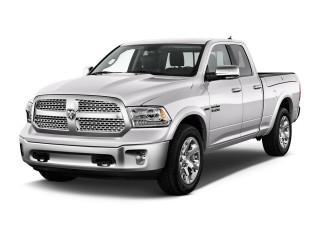ram: (65, 106, 78, 122)
